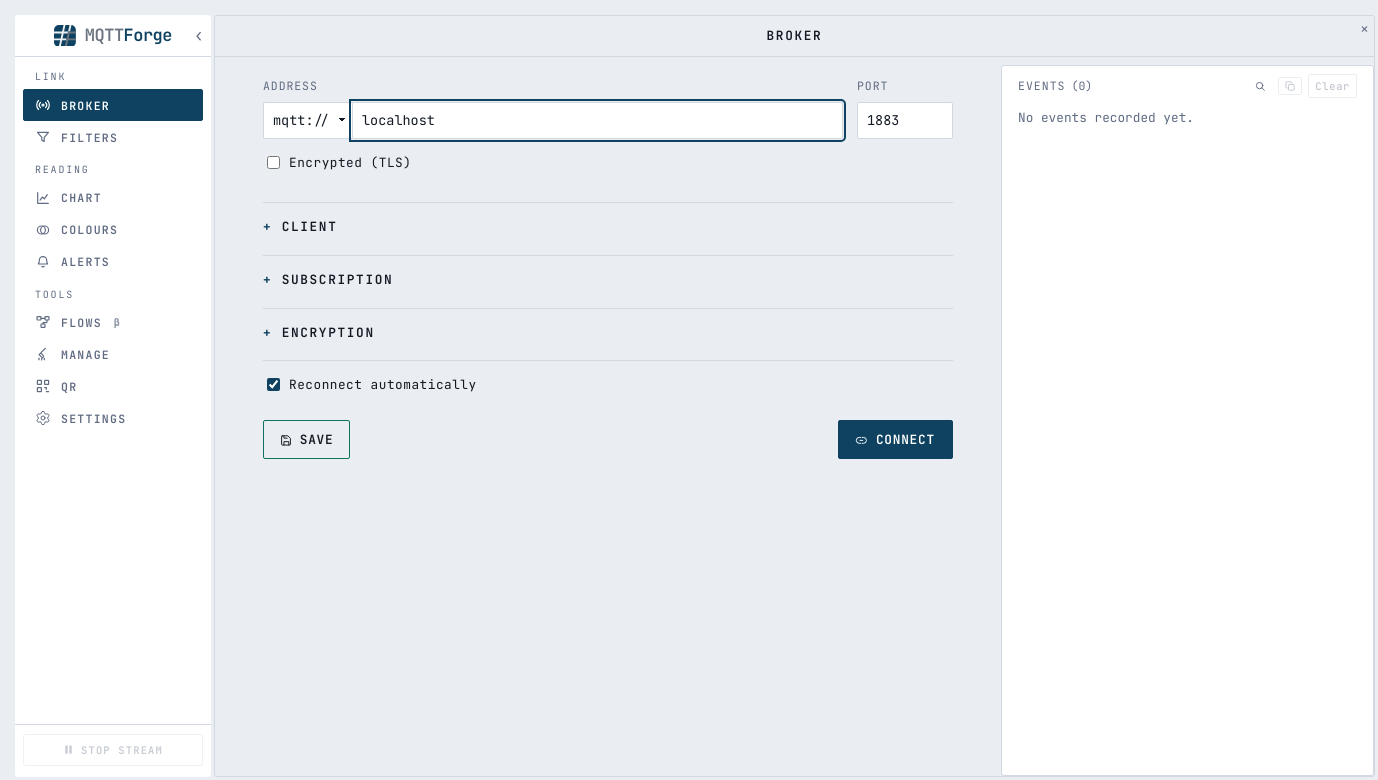
Test case: App › gives the columns back to any other panel
The image size is (1378, 780).
Click the button "Filters" at (113,137), box x1=23 y1=121 x2=203 y2=153
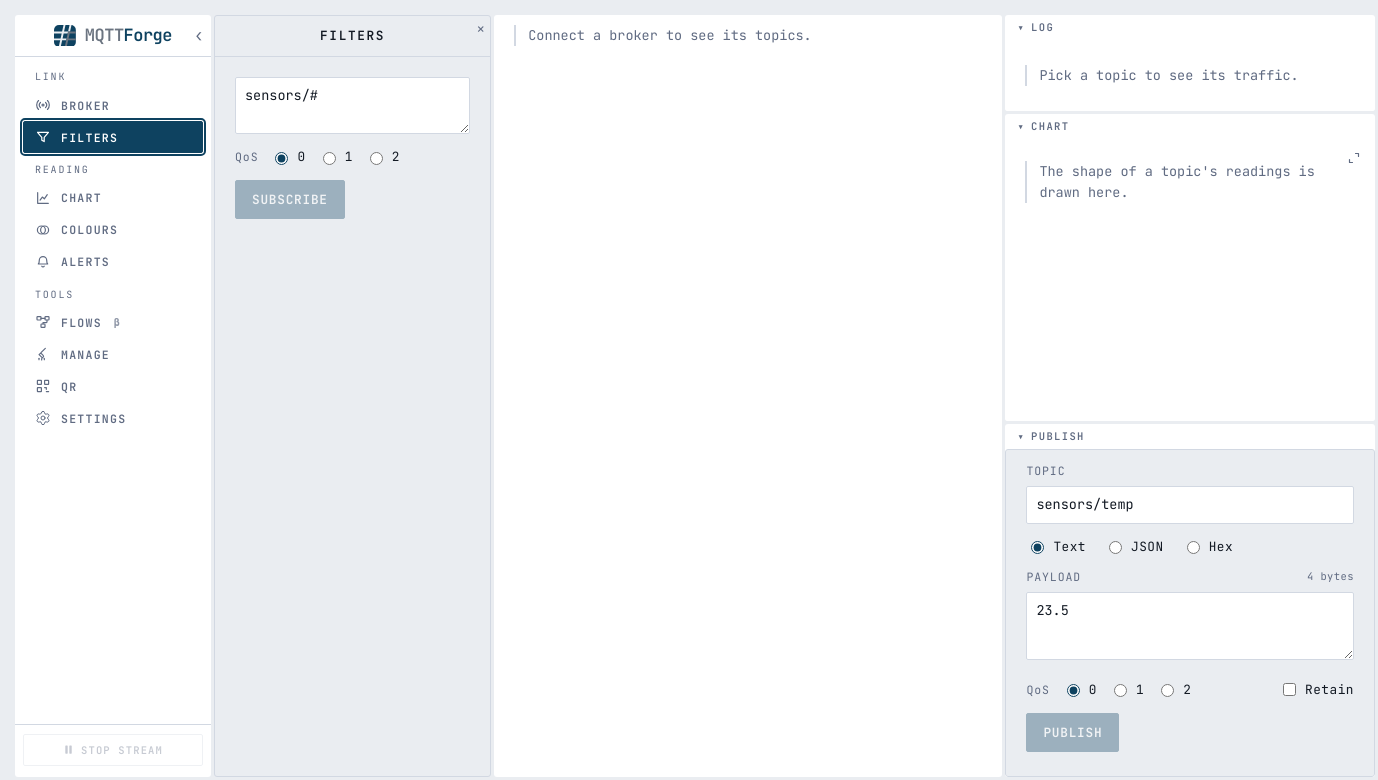
Expected: the element named "Panel and topics boundary" is shown, x1=491 y1=15 x2=494 y2=777
